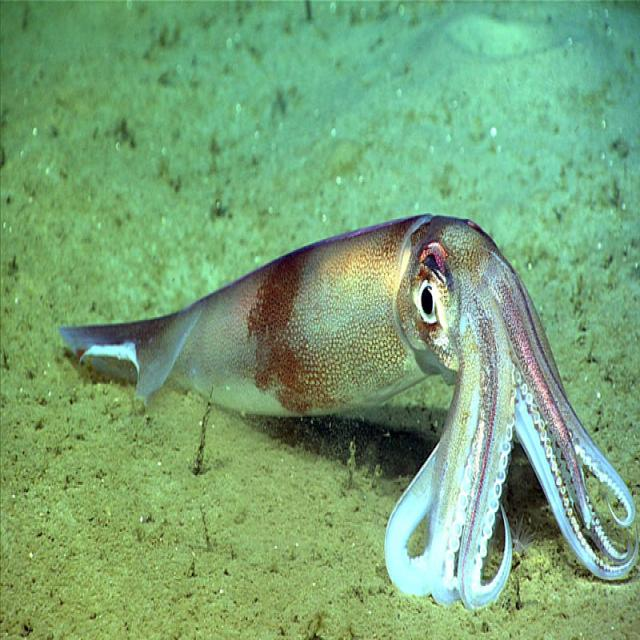SQUID: (51, 174, 640, 596)
